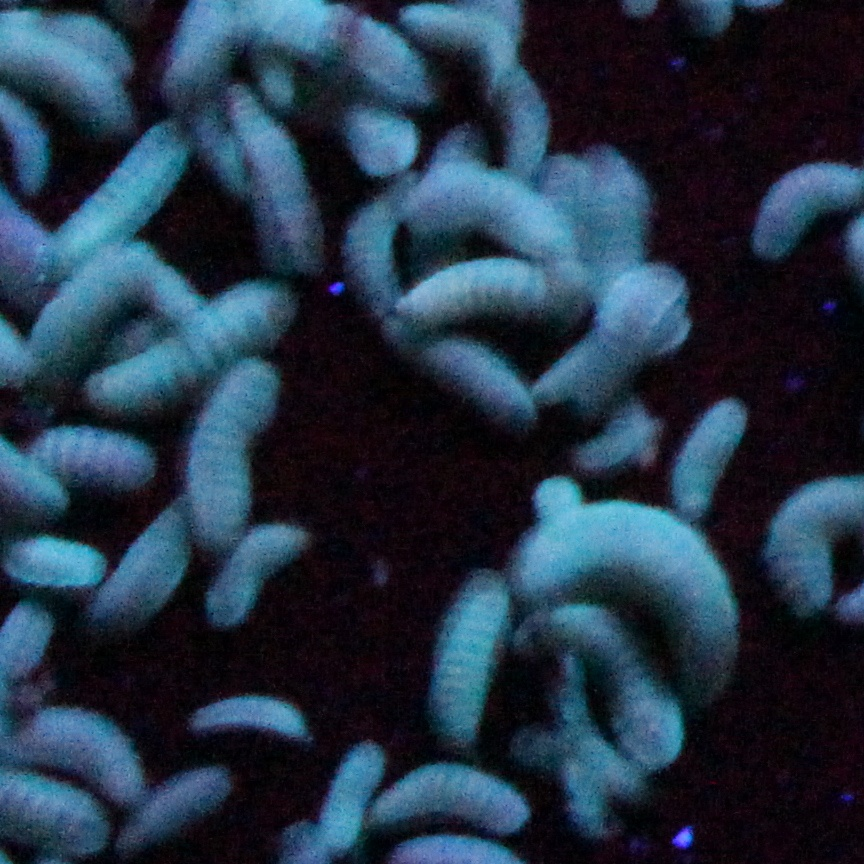larve: (517, 495, 750, 700), (79, 275, 290, 406), (529, 598, 681, 769), (171, 346, 295, 554), (540, 262, 692, 414), (37, 116, 198, 251), (229, 102, 325, 274), (421, 564, 505, 752), (371, 260, 576, 335), (420, 151, 570, 253), (76, 498, 196, 618), (365, 754, 527, 839), (206, 517, 315, 635), (666, 386, 755, 524), (305, 737, 394, 861), (327, 181, 408, 297), (30, 426, 155, 492), (193, 685, 307, 741)
